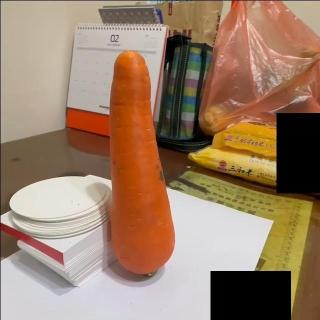carrot: (107, 49, 177, 279)
